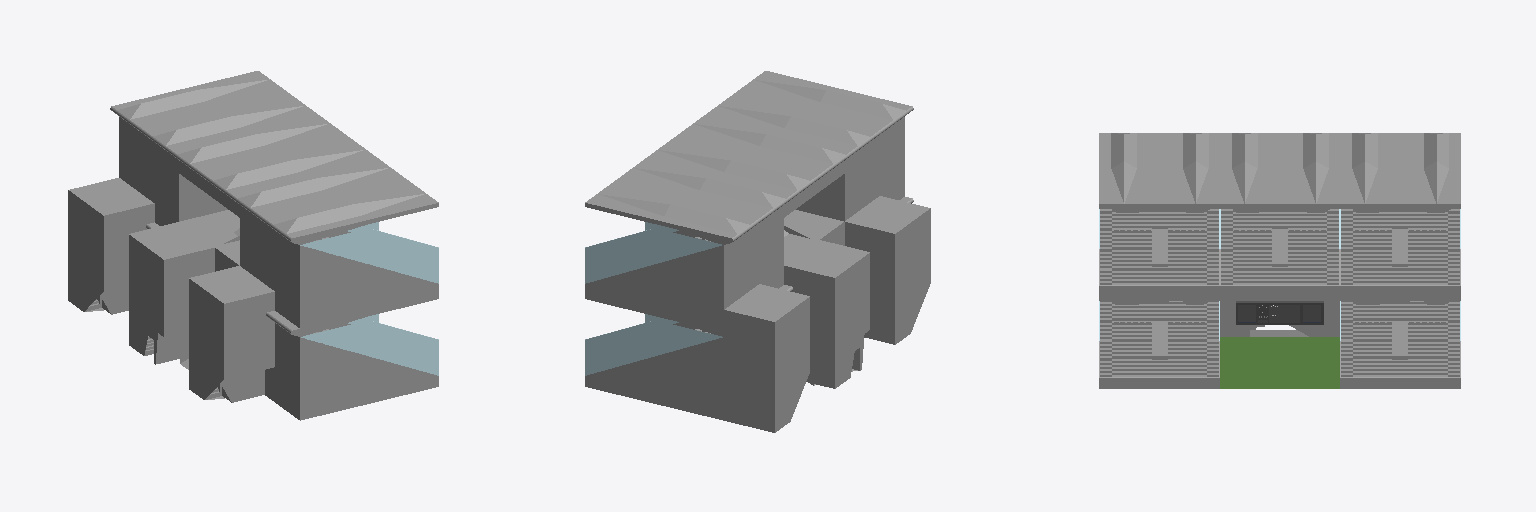
The model's file is Stadium_Stands.obj.
The picture shows the model from 3 angles: view 1: azimuth 30°, elevation 25°; view 2: azimuth 150°, elevation 25°; view 3: azimuth 270°, elevation 25°; orthographic projection.
Visible parts, largest first — view 1: Mesh3 Group8 Group7 Group6 Group5 Group1 Model, Mesh136 Group75 Group74 Group73 Group71 Group69 Group65 Group63 , Mesh68 Group39 Group38 Group37 Group36 Group32 Model, Mesh1 Group3 Group2 Group1 Model, Mesh31 Group16 Group10 Group9 Group7 Group6 Group5 Group1 Model, Mesh2 Group4 Group2 Group1 Model, Mesh96 Group47 Group41 Group40 Group38 Group37 Group36 Group32 M, Mesh164 Group83 Group77 Group76 Group74 Group73 Group71 Group69 , Mesh66 Group34 Group33 Group32 Model, Mesh63 Group28 Group26 Group25 Group5 Group1 Model, Mesh65 Group31 Group29 Group25 Group5 Group1 Model, Mesh30 Group15 Group11 Group10 Group9 Group7 Group6 Group5 Group (+11 smaller); view 2: Mesh68 Group39 Group38 Group37 Group36 Group32 Model, Mesh3 Group8 Group7 Group6 Group5 Group1 Model, Mesh136 Group75 Group74 Group73 Group71 Group69 Group65 Group63 , Mesh66 Group34 Group33 Group32 Model, Mesh96 Group47 Group41 Group40 Group38 Group37 Group36 Group32 M, Mesh31 Group16 Group10 Group9 Group7 Group6 Group5 Group1 Model, Mesh164 Group83 Group77 Group76 Group74 Group73 Group71 Group69 , Mesh1 Group3 Group2 Group1 Model, Mesh67 Group35 Group33 Group32 Model, Mesh129 Group61 Group60 Group56 Group36 Group32 Model, Mesh127 Group58 Group57 Group56 Group36 Group32 Model, Mesh95 Group46 Group42 Group41 Group40 Group38 Group37 Group36 G (+11 smaller); view 3: Mesh35 Group21 Group20 Group18 Group6 Group5 Group1 Model, Mesh100 Group52 Group51 Group49 Group37 Group36 Group32 Model, Mesh30 Group15 Group11 Group10 Group9 Group7 Group6 Group5 Group, Mesh163 Group82 Group78 Group77 Group76 Group74 Group73 Group71 , Mesh95 Group46 Group42 Group41 Group40 Group38 Group37 Group36 G, Mesh96 Group47 Group41 Group40 Group38 Group37 Group36 Group32 M, Mesh31 Group16 Group10 Group9 Group7 Group6 Group5 Group1 Model, Mesh131 Group64 Group63 skeC22D1 Model, Mesh164 Group83 Group77 Group76 Group74 Group73 Group71 Group69 , Mesh180 skeC22D1 Model, Mesh134 Group70 Group69 Group65 Group63 skeC22D1 Model, Mesh166 Group84 Group76 Group74 Group73 Group71 Group69 Group65  (+8 smaller).
Boxes of the visible parts, box(x1,y1,x2,y2) form: Mesh3 Group8 Group7 Group6 Group5 Group1 Model: box(189, 266, 274, 402); Mesh136 Group75 Group74 Group73 Group71 Group69 Group65 Group63 : box(129, 222, 214, 364); Mesh68 Group39 Group38 Group37 Group36 Group32 Model: box(68, 178, 154, 314); Mesh1 Group3 Group2 Group1 Model: box(240, 218, 427, 328); Mesh31 Group16 Group10 Group9 Group7 Group6 Group5 Group1 Model: box(231, 159, 438, 244); Mesh2 Group4 Group2 Group1 Model: box(265, 336, 427, 420); Mesh96 Group47 Group41 Group40 Group38 Group37 Group36 Group32 M: box(110, 71, 317, 153); Mesh164 Group83 Group77 Group76 Group74 Group73 Group71 Group69 : box(171, 115, 378, 197); Mesh66 Group34 Group33 Group32 Model: box(119, 130, 227, 225); Mesh63 Group28 Group26 Group25 Group5 Group1 Model: box(300, 228, 438, 283); Mesh65 Group31 Group29 Group25 Group5 Group1 Model: box(301, 320, 438, 375); Mesh30 Group15 Group11 Group10 Group9 Group7 Group6 Group5 Group: box(240, 205, 438, 296); Mesh68 Group39 Group38 Group37 Group36 Group32 Model: box(724, 284, 809, 432); Mesh3 Group8 Group7 Group6 Group5 Group1 Model: box(845, 196, 930, 344); Mesh136 Group75 Group74 Group73 Group71 Group69 Group65 Group63 : box(784, 240, 869, 388); Mesh66 Group34 Group33 Group32 Model: box(596, 218, 783, 328); Mesh96 Group47 Group41 Group40 Group38 Group37 Group36 Group32 M: box(585, 159, 792, 244); Mesh31 Group16 Group10 Group9 Group7 Group6 Group5 Group1 Model: box(706, 71, 913, 153); Mesh164 Group83 Group77 Group76 Group74 Group73 Group71 Group69 : box(645, 115, 852, 197); Mesh1 Group3 Group2 Group1 Model: box(796, 130, 904, 221); Mesh67 Group35 Group33 Group32 Model: box(596, 354, 723, 420); Mesh129 Group61 Group60 Group56 Group36 Group32 Model: box(585, 320, 722, 375); Mesh127 Group58 Group57 Group56 Group36 Group32 Model: box(585, 228, 721, 283); Mesh95 Group46 Group42 Group41 Group40 Group38 Group37 Group36 G: box(585, 205, 783, 296); Mesh35 Group21 Group20 Group18 Group6 Group5 Group1 Model: box(1099, 301, 1219, 388); Mesh100 Group52 Group51 Group49 Group37 Group36 Group32 Model: box(1340, 301, 1460, 388); Mesh30 Group15 Group11 Group10 Group9 Group7 Group6 Group5 Group: box(1099, 209, 1219, 295); Mesh163 Group82 Group78 Group77 Group76 Group74 Group73 Group71 : box(1220, 209, 1339, 295); Mesh95 Group46 Group42 Group41 Group40 Group38 Group37 Group36 G: box(1340, 209, 1460, 295); Mesh96 Group47 Group41 Group40 Group38 Group37 Group36 Group32 M: box(1340, 133, 1460, 212); Mesh31 Group16 Group10 Group9 Group7 Group6 Group5 Group1 Model: box(1099, 133, 1219, 212); Mesh131 Group64 Group63 skeC22D1 Model: box(1220, 330, 1339, 388); Mesh164 Group83 Group77 Group76 Group74 Group73 Group71 Group69 : box(1220, 133, 1339, 212); Mesh180 skeC22D1 Model: box(1236, 301, 1323, 324); Mesh134 Group70 Group69 Group65 Group63 skeC22D1 Model: box(1220, 301, 1339, 336); Mesh166 Group84 Group76 Group74 Group73 Group71 Group69 Group65 : box(1303, 133, 1328, 202).
Size of the model in its own units: 2798 by 2861 by 4500.